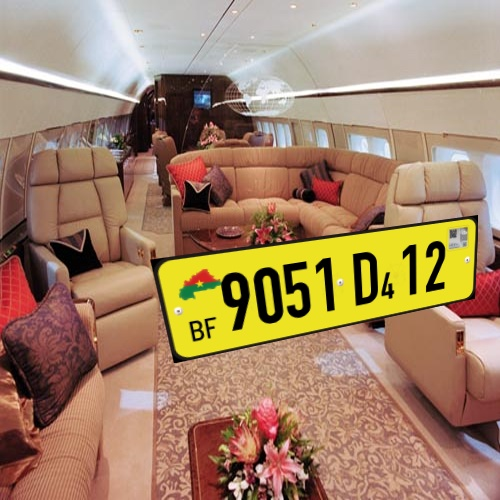plate: (139, 213, 488, 373)
